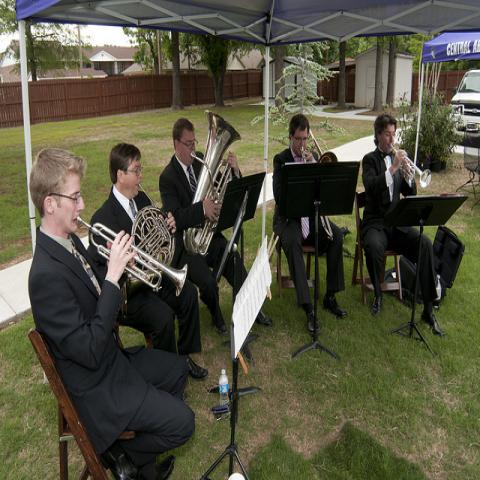car: (448, 68, 479, 139)
